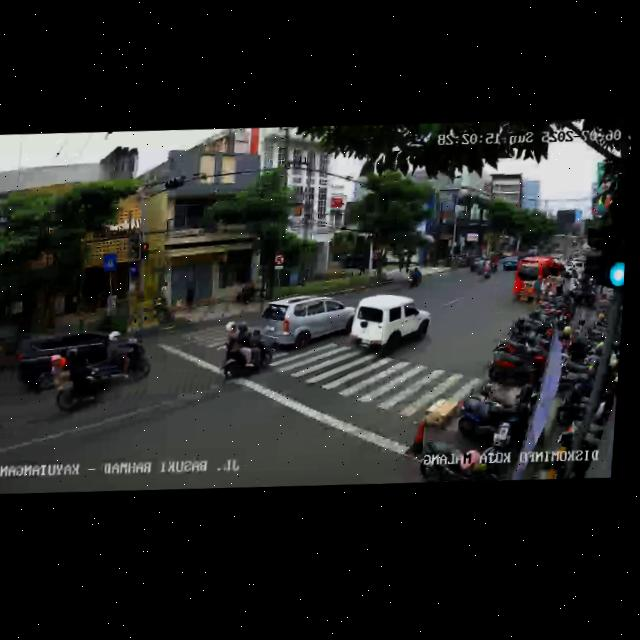car: (8, 324, 152, 403), (345, 290, 433, 359), (263, 292, 351, 359), (512, 254, 565, 305)
motorcycle: (48, 335, 112, 416), (216, 320, 281, 383), (88, 328, 153, 385), (406, 265, 422, 289), (477, 257, 493, 280)
